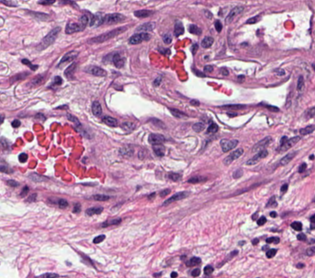nucleus: (88, 26, 126, 42), (36, 27, 60, 50), (65, 15, 88, 33), (163, 191, 188, 204), (246, 149, 267, 164), (225, 6, 243, 23), (278, 136, 299, 150), (58, 51, 77, 66), (252, 136, 271, 151), (224, 149, 242, 164), (100, 13, 124, 24), (129, 32, 150, 44), (279, 152, 296, 165), (85, 65, 105, 76), (220, 139, 237, 151), (64, 63, 75, 79), (148, 133, 164, 144), (29, 173, 48, 182), (137, 22, 154, 32), (169, 108, 186, 118), (112, 53, 124, 67), (29, 75, 44, 86), (101, 218, 121, 226), (49, 76, 62, 88), (67, 114, 80, 126), (119, 145, 133, 156), (85, 206, 102, 215), (91, 101, 101, 116), (134, 9, 152, 17), (188, 175, 206, 183), (103, 116, 117, 126), (150, 118, 165, 127), (29, 12, 48, 19), (153, 144, 164, 156), (174, 22, 183, 36), (121, 122, 135, 131), (299, 125, 313, 134), (201, 37, 213, 47), (220, 104, 244, 109), (189, 24, 200, 34), (266, 196, 276, 207), (91, 194, 109, 200), (207, 122, 217, 132), (192, 122, 203, 131), (246, 16, 260, 23), (168, 172, 180, 180), (162, 33, 171, 43), (297, 75, 303, 90), (193, 68, 204, 76), (93, 235, 104, 243), (264, 105, 278, 111), (58, 199, 67, 208), (159, 189, 169, 197), (291, 222, 301, 230), (266, 237, 279, 243), (153, 77, 161, 86), (298, 163, 306, 172), (233, 169, 242, 177), (257, 216, 265, 225), (280, 183, 287, 193), (308, 106, 314, 117), (38, 0, 54, 4), (28, 193, 36, 201), (73, 203, 80, 212), (215, 21, 221, 31), (35, 113, 45, 119), (297, 233, 305, 240), (204, 65, 213, 71), (221, 68, 228, 75), (192, 44, 197, 53), (204, 11, 211, 17), (190, 100, 198, 105), (148, 193, 154, 198), (252, 239, 258, 244), (270, 212, 276, 216), (238, 75, 243, 79), (310, 154, 313, 159)
